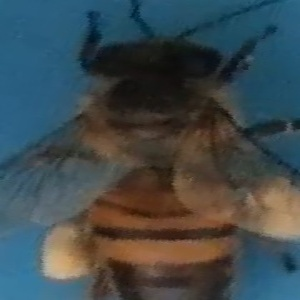bee: (27, 4, 298, 300)
